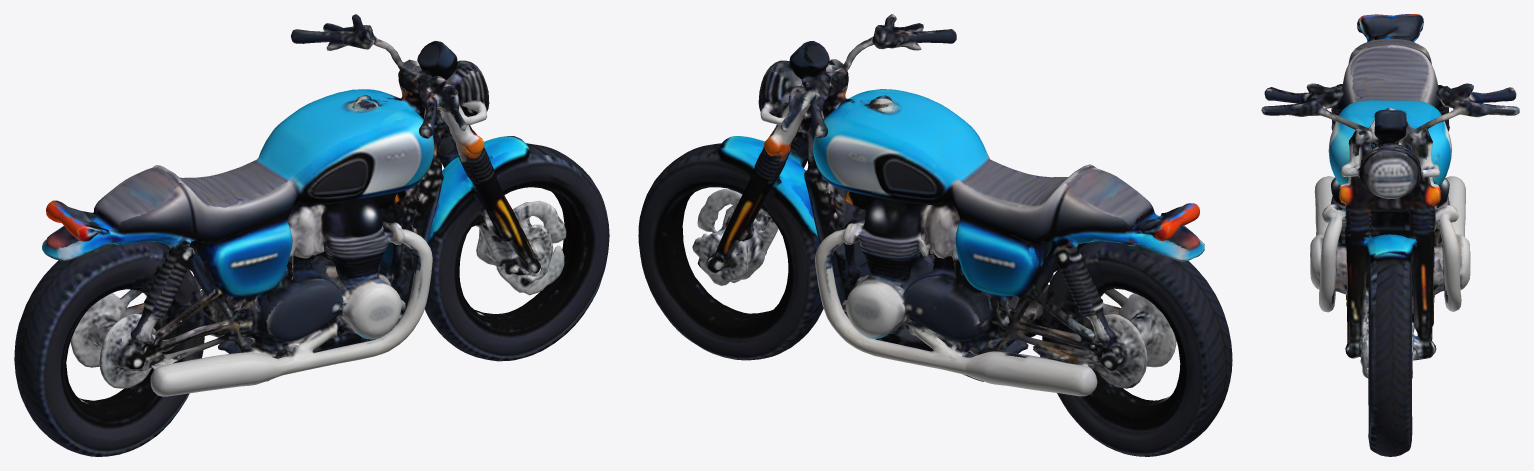
Rendered from goodcase0304_178.glb.
3 views of the same model, side by side, from view 1: azimuth 30°, elevation 25°; view 2: azimuth 150°, elevation 25°; view 3: azimuth 270°, elevation 25° (orthographic). The views are drawn at different scales.
Visible parts, largest first — view 1: object.001; view 2: object.001; view 3: object.001.
Boxes of the visible parts, box(x1,y1,x2,y2) form: object.001: box(14, 14, 609, 456); object.001: box(638, 14, 1232, 456); object.001: box(1261, 14, 1519, 456).
Bounding box in the file's own units: 1.11 × 0.6151 × 0.4611.
1 material, 1 textured.
